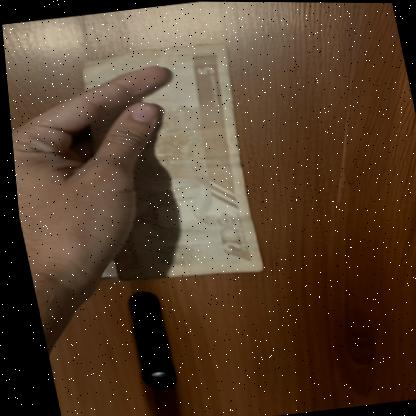five-back-vef: (69, 39, 269, 287)
